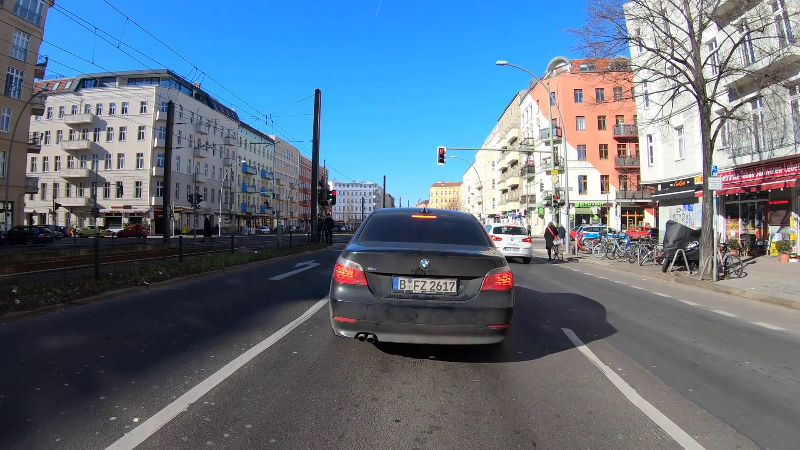Plate: (391, 275, 456, 292), (503, 246, 519, 252)
